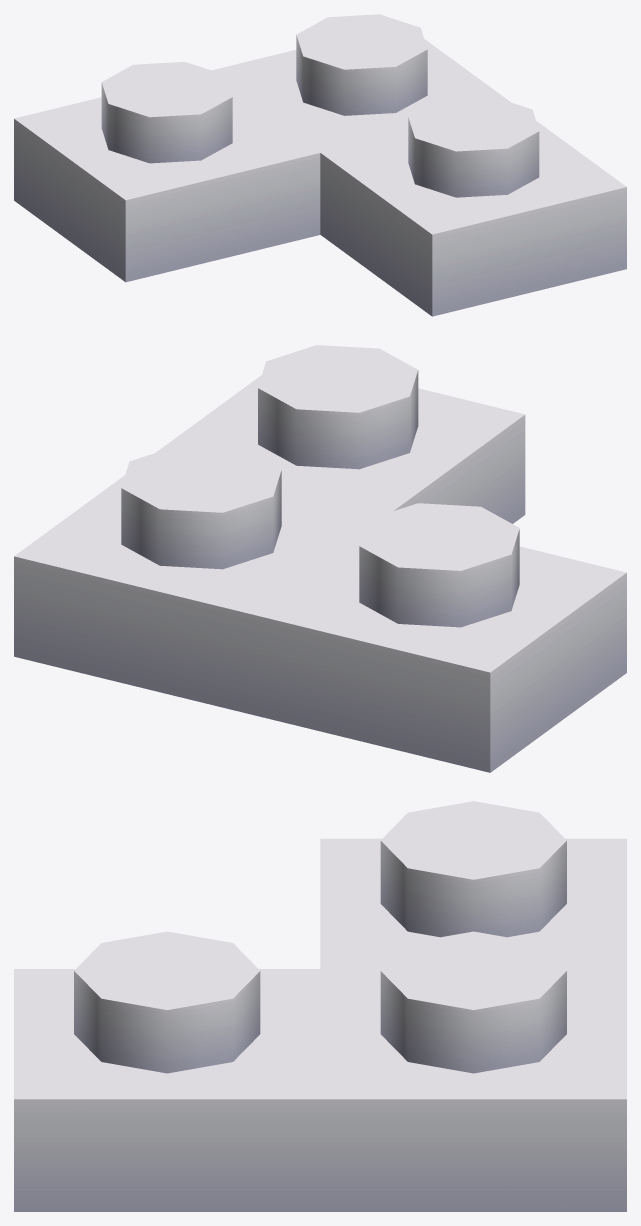
File: round-lq-plate-corner.glb
3 renders of one model, top to bottom at view 1: azimuth 30°, elevation 25°; view 2: azimuth 150°, elevation 25°; view 3: azimuth 270°, elevation 25°, orthographic. The views are drawn at different scales.
Visible parts, largest first — view 1: round-lq-plate-corner; view 2: round-lq-plate-corner; view 3: round-lq-plate-corner.
Part boxes in pixels (box(x1,y1,x2,y2)): round-lq-plate-corner: box(14, 14, 626, 316); round-lq-plate-corner: box(14, 345, 626, 772); round-lq-plate-corner: box(14, 801, 626, 1211).
Bounding box in the file's own units: 0.159 × 0.05 × 0.158.
1 material, 1 textured.
